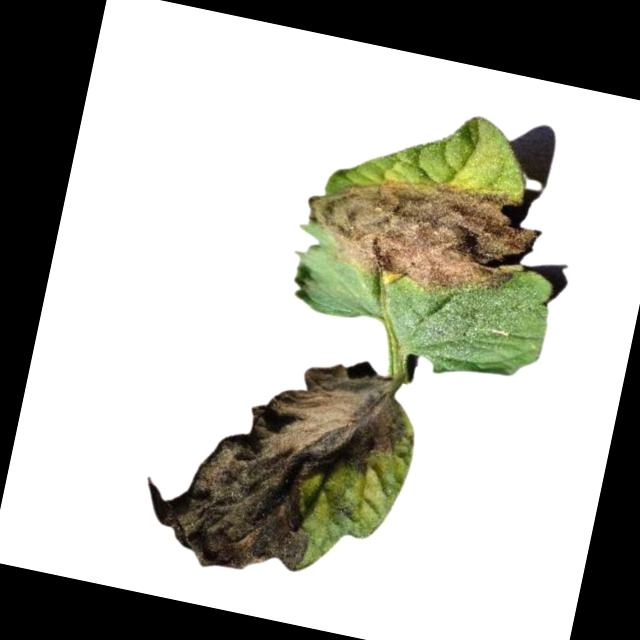Late_blight: (132, 323, 418, 598), (294, 152, 548, 316)
